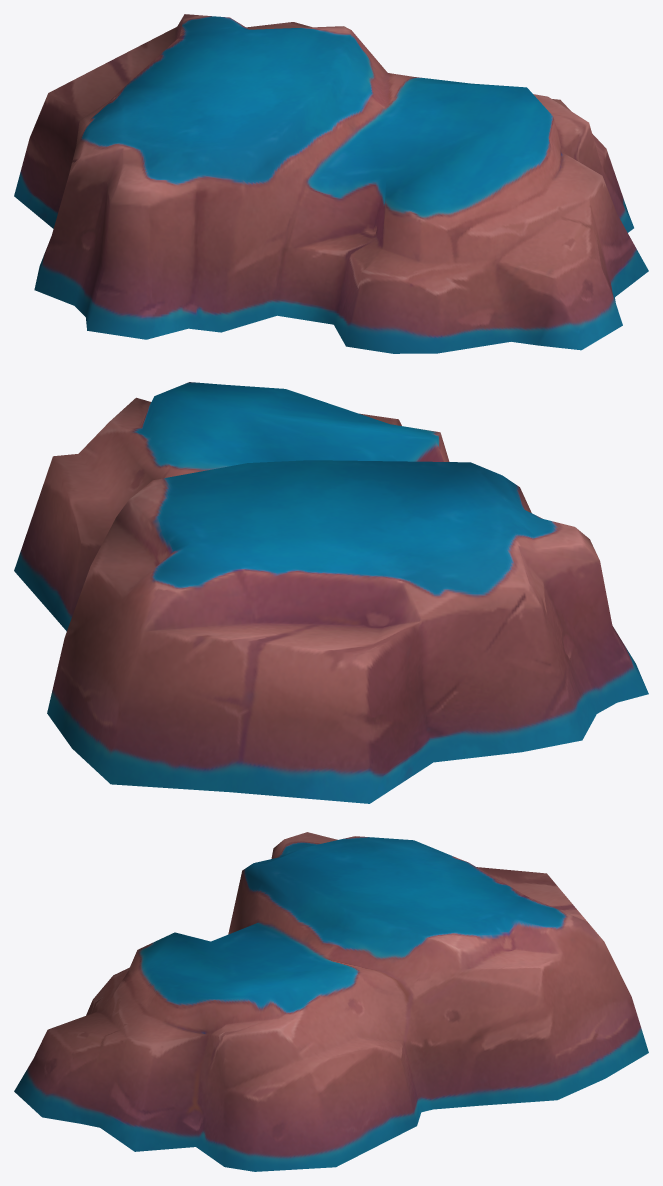
Rendered from nameikexing_shitou04.FBX.
3 renders of one model, top to bottom at view 1: azimuth 30°, elevation 25°; view 2: azimuth 150°, elevation 25°; view 3: azimuth 270°, elevation 25°, orthographic. The views are drawn at different scales.
Parts seen in each view (by area): view 1: nameikexing_shitou04; view 2: nameikexing_shitou04; view 3: nameikexing_shitou04.
Boxes of the visible parts, x1,y1,x2,y2 form: nameikexing_shitou04: (14, 14, 648, 353); nameikexing_shitou04: (14, 382, 648, 803); nameikexing_shitou04: (14, 832, 648, 1171).
Size of the model in its own units: 2374 by 680 by 2642.
